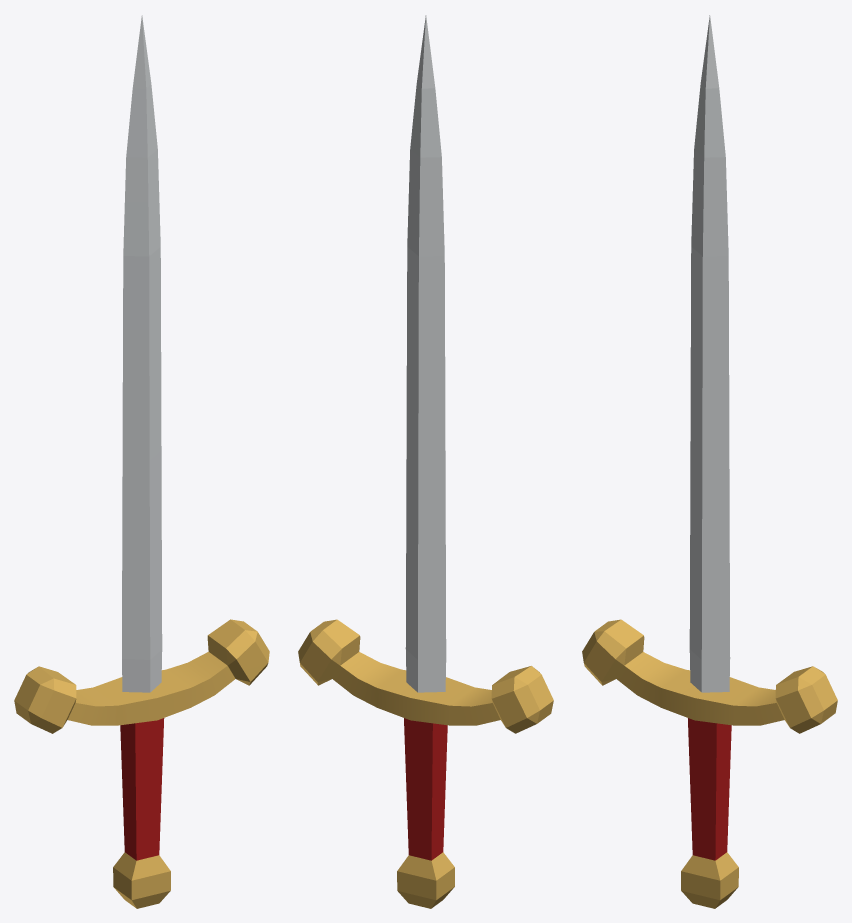
File: Sword_F.fbx
The picture shows the model from 3 angles, left to right: view 1: azimuth 30°, elevation 25°; view 2: azimuth 150°, elevation 25°; view 3: azimuth 330°, elevation 25°; orthographic projection.
Parts seen in each view (by area): view 1: Sword_F; view 2: Sword_F; view 3: Sword_F.
Boxes of the visible parts, bbox=[...] form: Sword_F: bbox=[14, 15, 269, 908]; Sword_F: bbox=[298, 15, 553, 908]; Sword_F: bbox=[582, 15, 837, 908].
Bounding box in the file's own units: 27.6 × 96.8 × 6.1.
